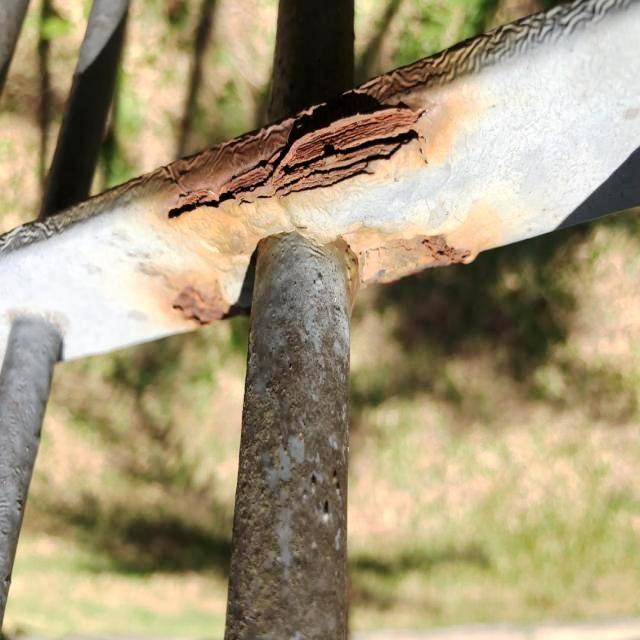Corrosion: (129, 47, 485, 329)
